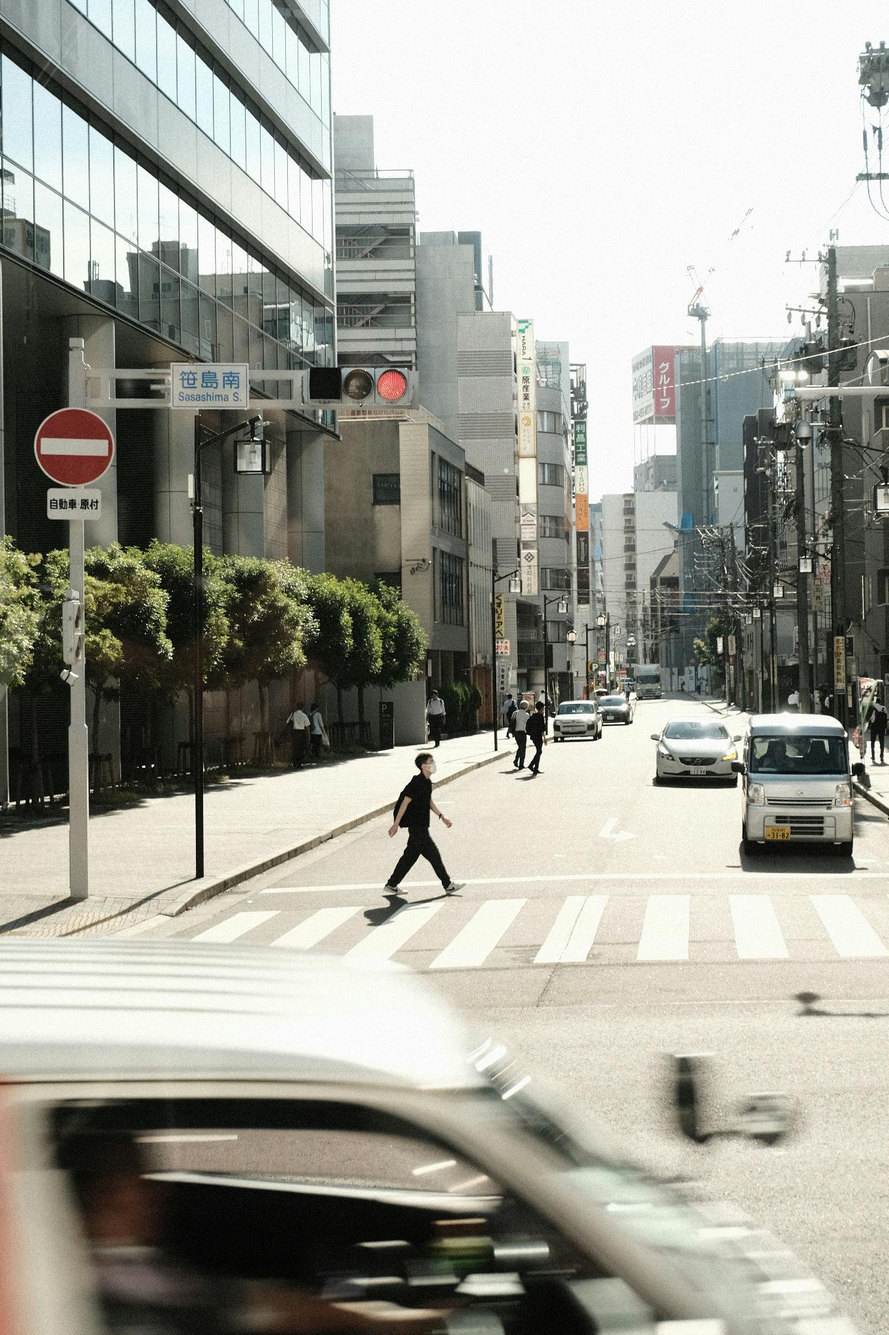barrier: (33, 404, 116, 492)
